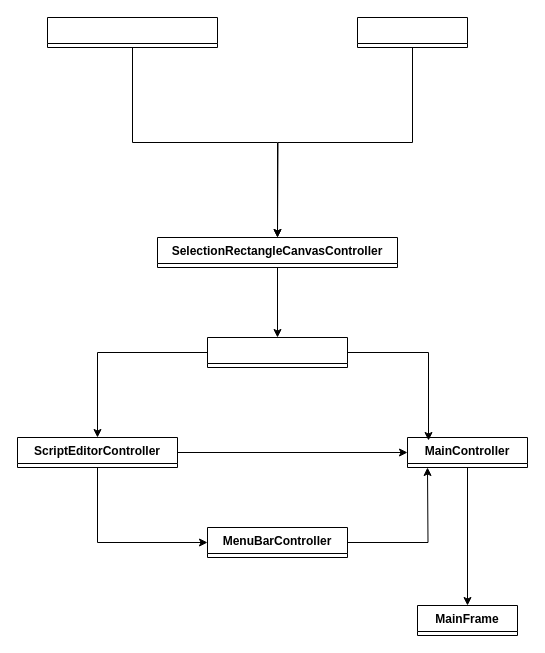
Some shapes in this 545 by 653 pixel diagram are drawn without their labels. Each missing label, with the box of its shape:
CanvasController: (206, 336, 348, 368)
SelectionRectangleTool: (46, 16, 218, 48)
SelectionTool: (356, 16, 468, 48)
